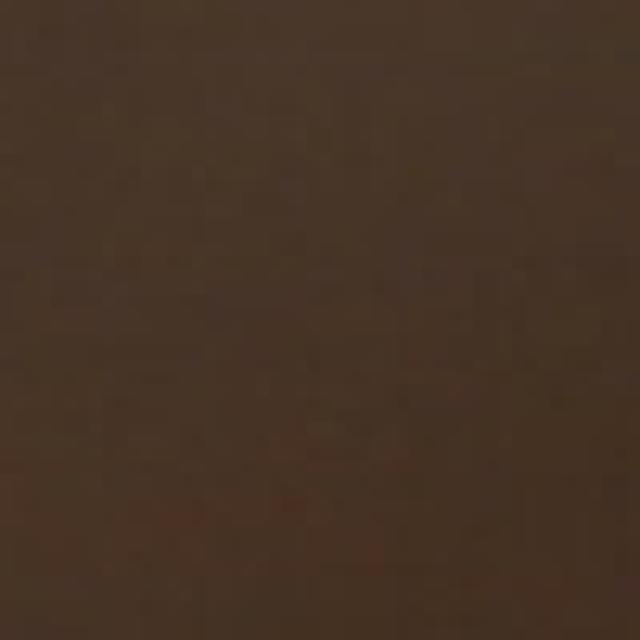fire: (18, 21, 640, 631)
